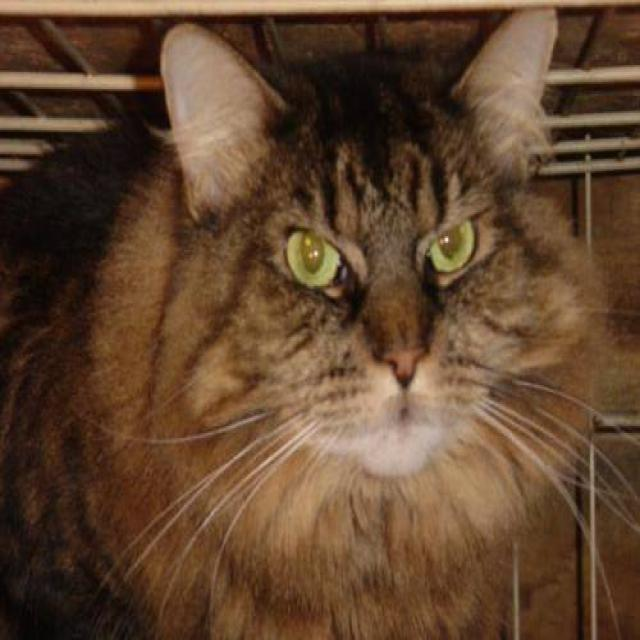cat: (0, 5, 639, 638)
